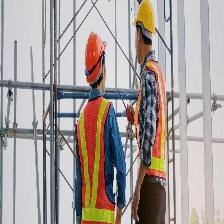Person: (75, 30, 126, 224), (133, 3, 170, 224)
helmet: (85, 31, 108, 87), (130, 3, 160, 36)
vest: (78, 99, 124, 224), (133, 59, 171, 186)
